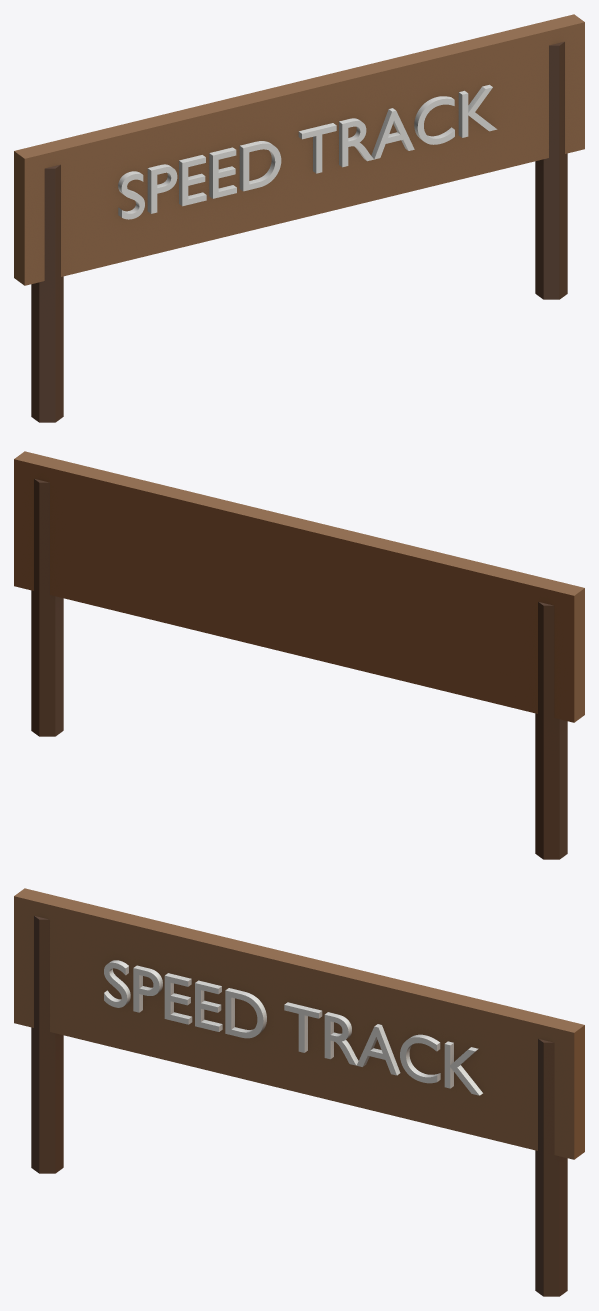
The model's file is area_track_0_1.fbx.
The picture shows the model from 3 angles, top to bottom: view 1: azimuth 30°, elevation 25°; view 2: azimuth 150°, elevation 25°; view 3: azimuth 330°, elevation 25°; orthographic projection.
Visible parts, largest first — view 1: area_track_0_1_body; view 2: area_track_0_1_body; view 3: area_track_0_1_body.
Boxes of the visible parts, bbox=[...] form: area_track_0_1_body: bbox=[14, 14, 584, 422]; area_track_0_1_body: bbox=[14, 451, 584, 859]; area_track_0_1_body: bbox=[14, 888, 584, 1296].
Bounding box in the file's own units: 3000 × 1375 × 158.
Materials: 1 (1 with a texture image).
